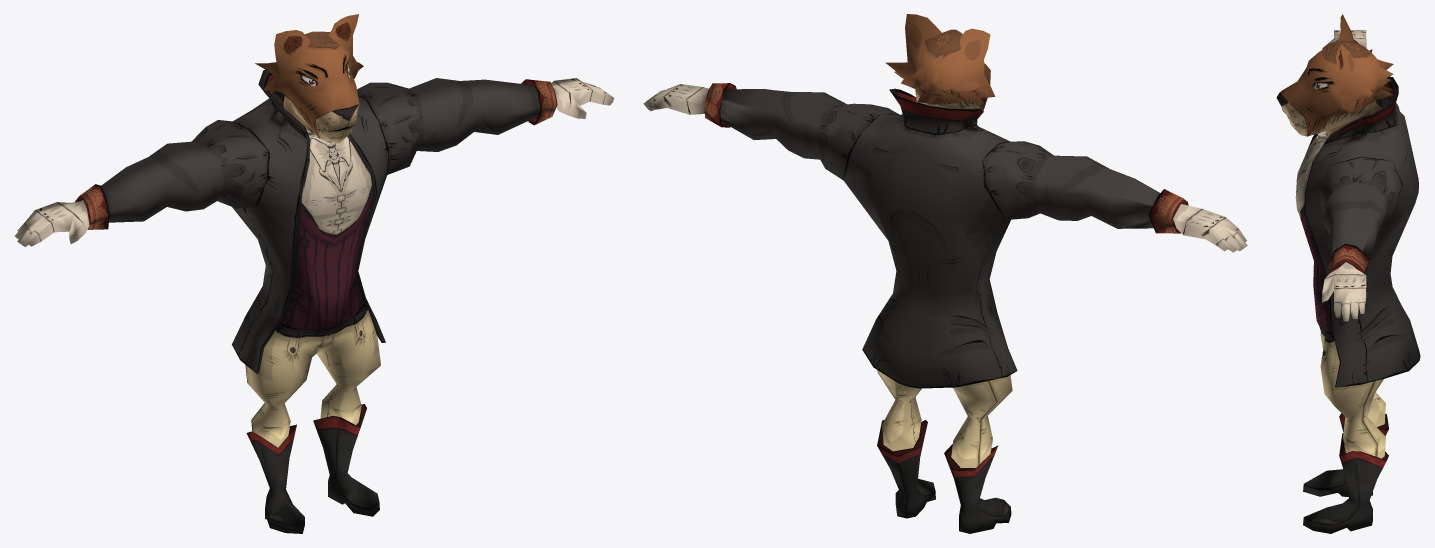
The model's file is isaiah.fbx.
The picture shows the model from 3 angles, left to right: view 1: azimuth 30°, elevation 25°; view 2: azimuth 150°, elevation 25°; view 3: azimuth 270°, elevation 25°; orthographic projection. The views are drawn at different scales.
Visible parts, largest first — view 1: Cylinder; view 2: Cylinder; view 3: Cylinder.
Boxes of the visible parts, bbox=[...] form: Cylinder: bbox=[14, 14, 614, 533]; Cylinder: bbox=[643, 14, 1247, 533]; Cylinder: bbox=[1276, 14, 1420, 533].
Bounding box in the file's own units: 2155 × 1686 × 463.
Materials: 1 (1 with a texture image).
